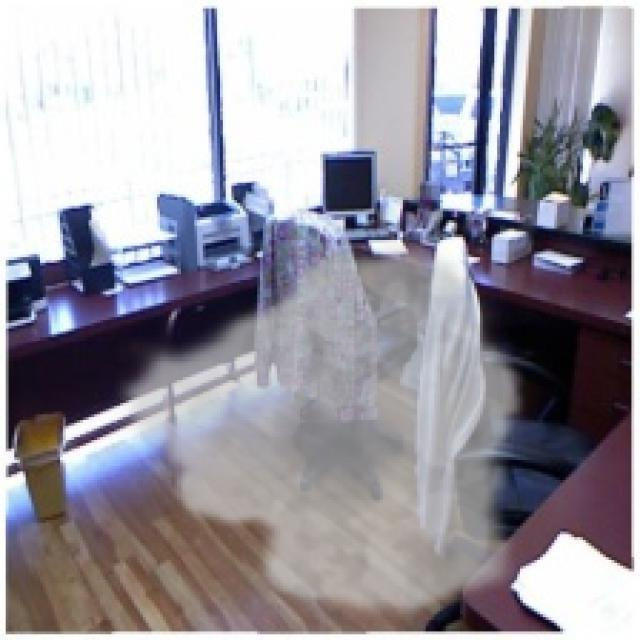Smoke: (114, 231, 529, 623)
